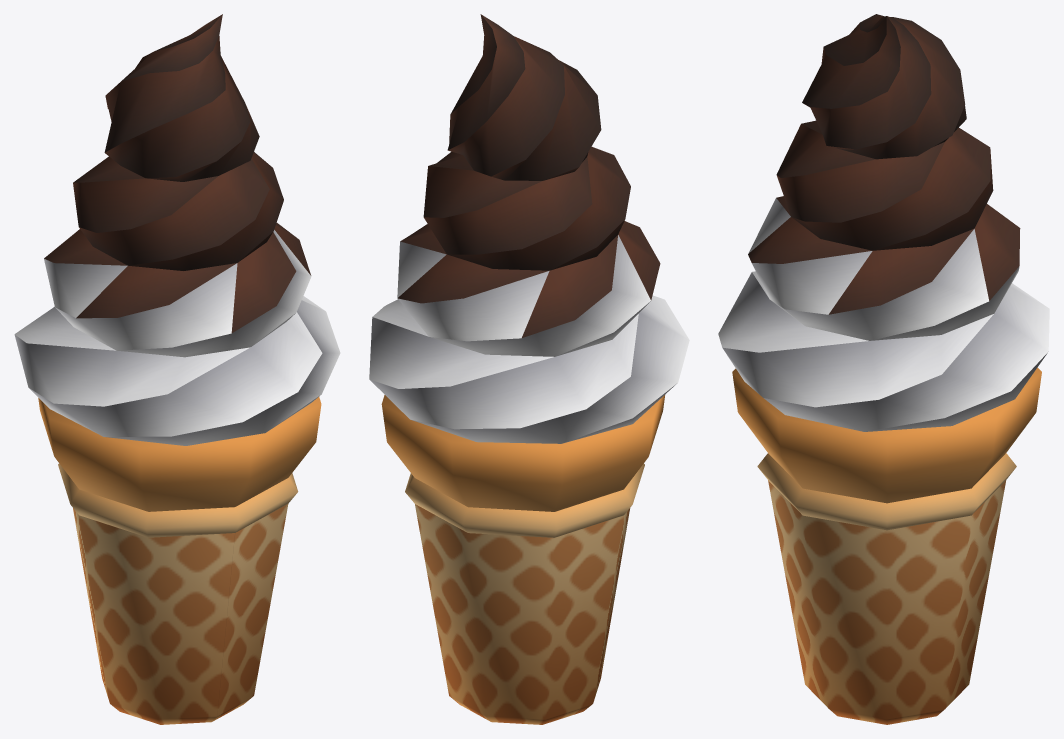
Rendered from m_Softserve11.fbx.
The picture shows the model from 3 angles, left to right: view 1: azimuth 30°, elevation 25°; view 2: azimuth 150°, elevation 25°; view 3: azimuth 270°, elevation 25°; orthographic projection. The views are drawn at different scales.
Visible parts, largest first — view 1: m_Softserve11; view 2: m_Softserve11; view 3: m_Softserve11.
Part boxes in pixels (x1,y1,x2,y2): m_Softserve11: (14,14,340,724); m_Softserve11: (369,14,689,724); m_Softserve11: (718,14,1049,724).
Size of the model in its own units: 11.45 by 26 by 11.13.
